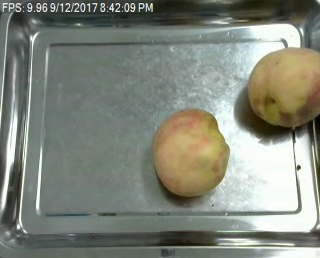Peach: (151, 108, 229, 196), (245, 46, 319, 127)
